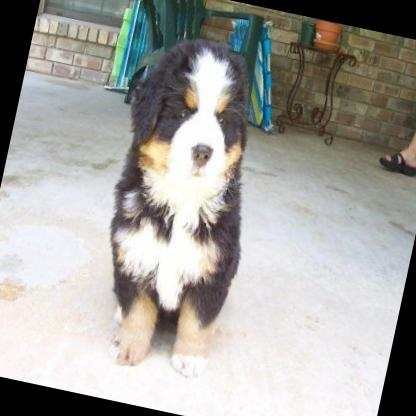Bernese_mountain_dog: (70, 22, 282, 382)
